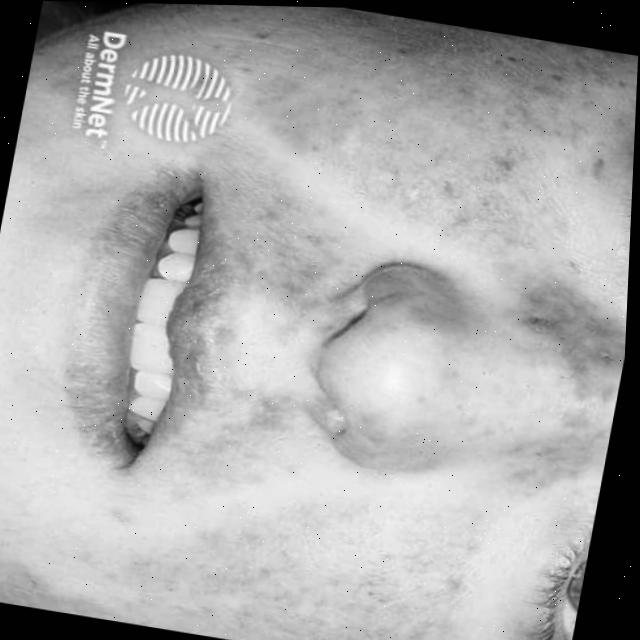lupus-detected: (106, 3, 640, 336), (338, 253, 629, 576), (30, 468, 574, 640)
